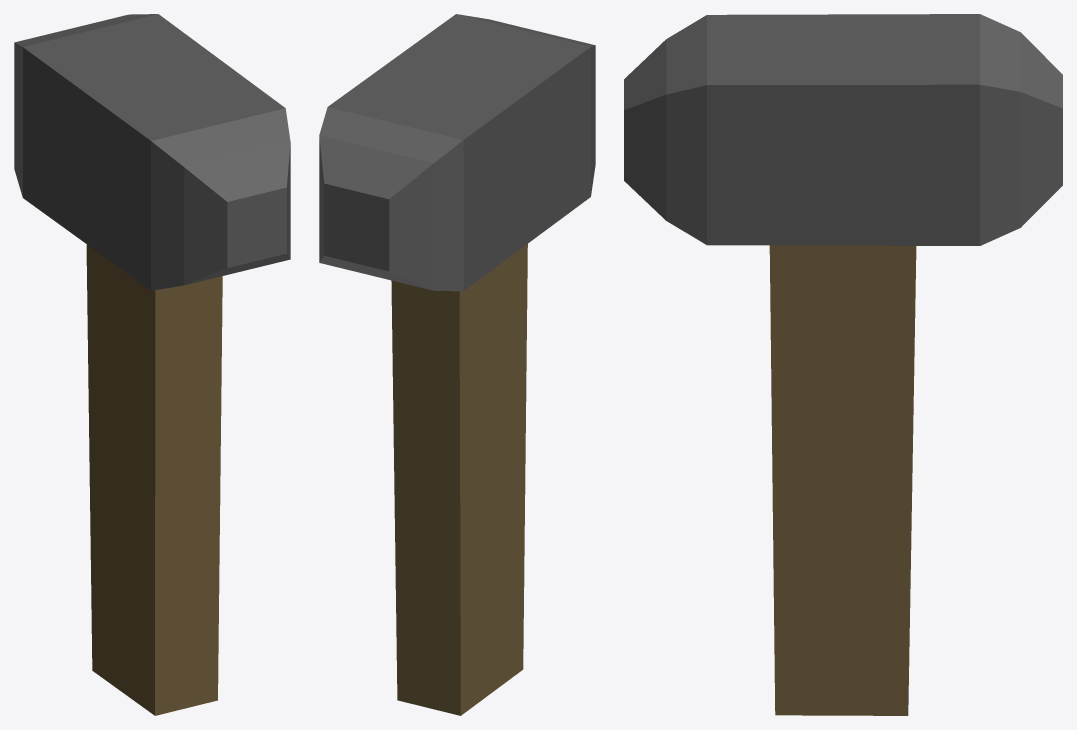
Rendered from SmithingHammer_v2.glb.
3 renders of one model, left to right at view 1: azimuth 30°, elevation 25°; view 2: azimuth 150°, elevation 25°; view 3: azimuth 270°, elevation 25°, orthographic. The views are drawn at different scales.
Visible parts, largest first — view 1: Cube; view 2: Cube; view 3: Cube.
Boxes of the visible parts, x1,y1,x2,y2 form: Cube: (14, 14, 290, 715); Cube: (319, 14, 595, 715); Cube: (624, 14, 1062, 715).
Bounding box in the file's own units: 0.069 × 0.2956 × 0.1808.
